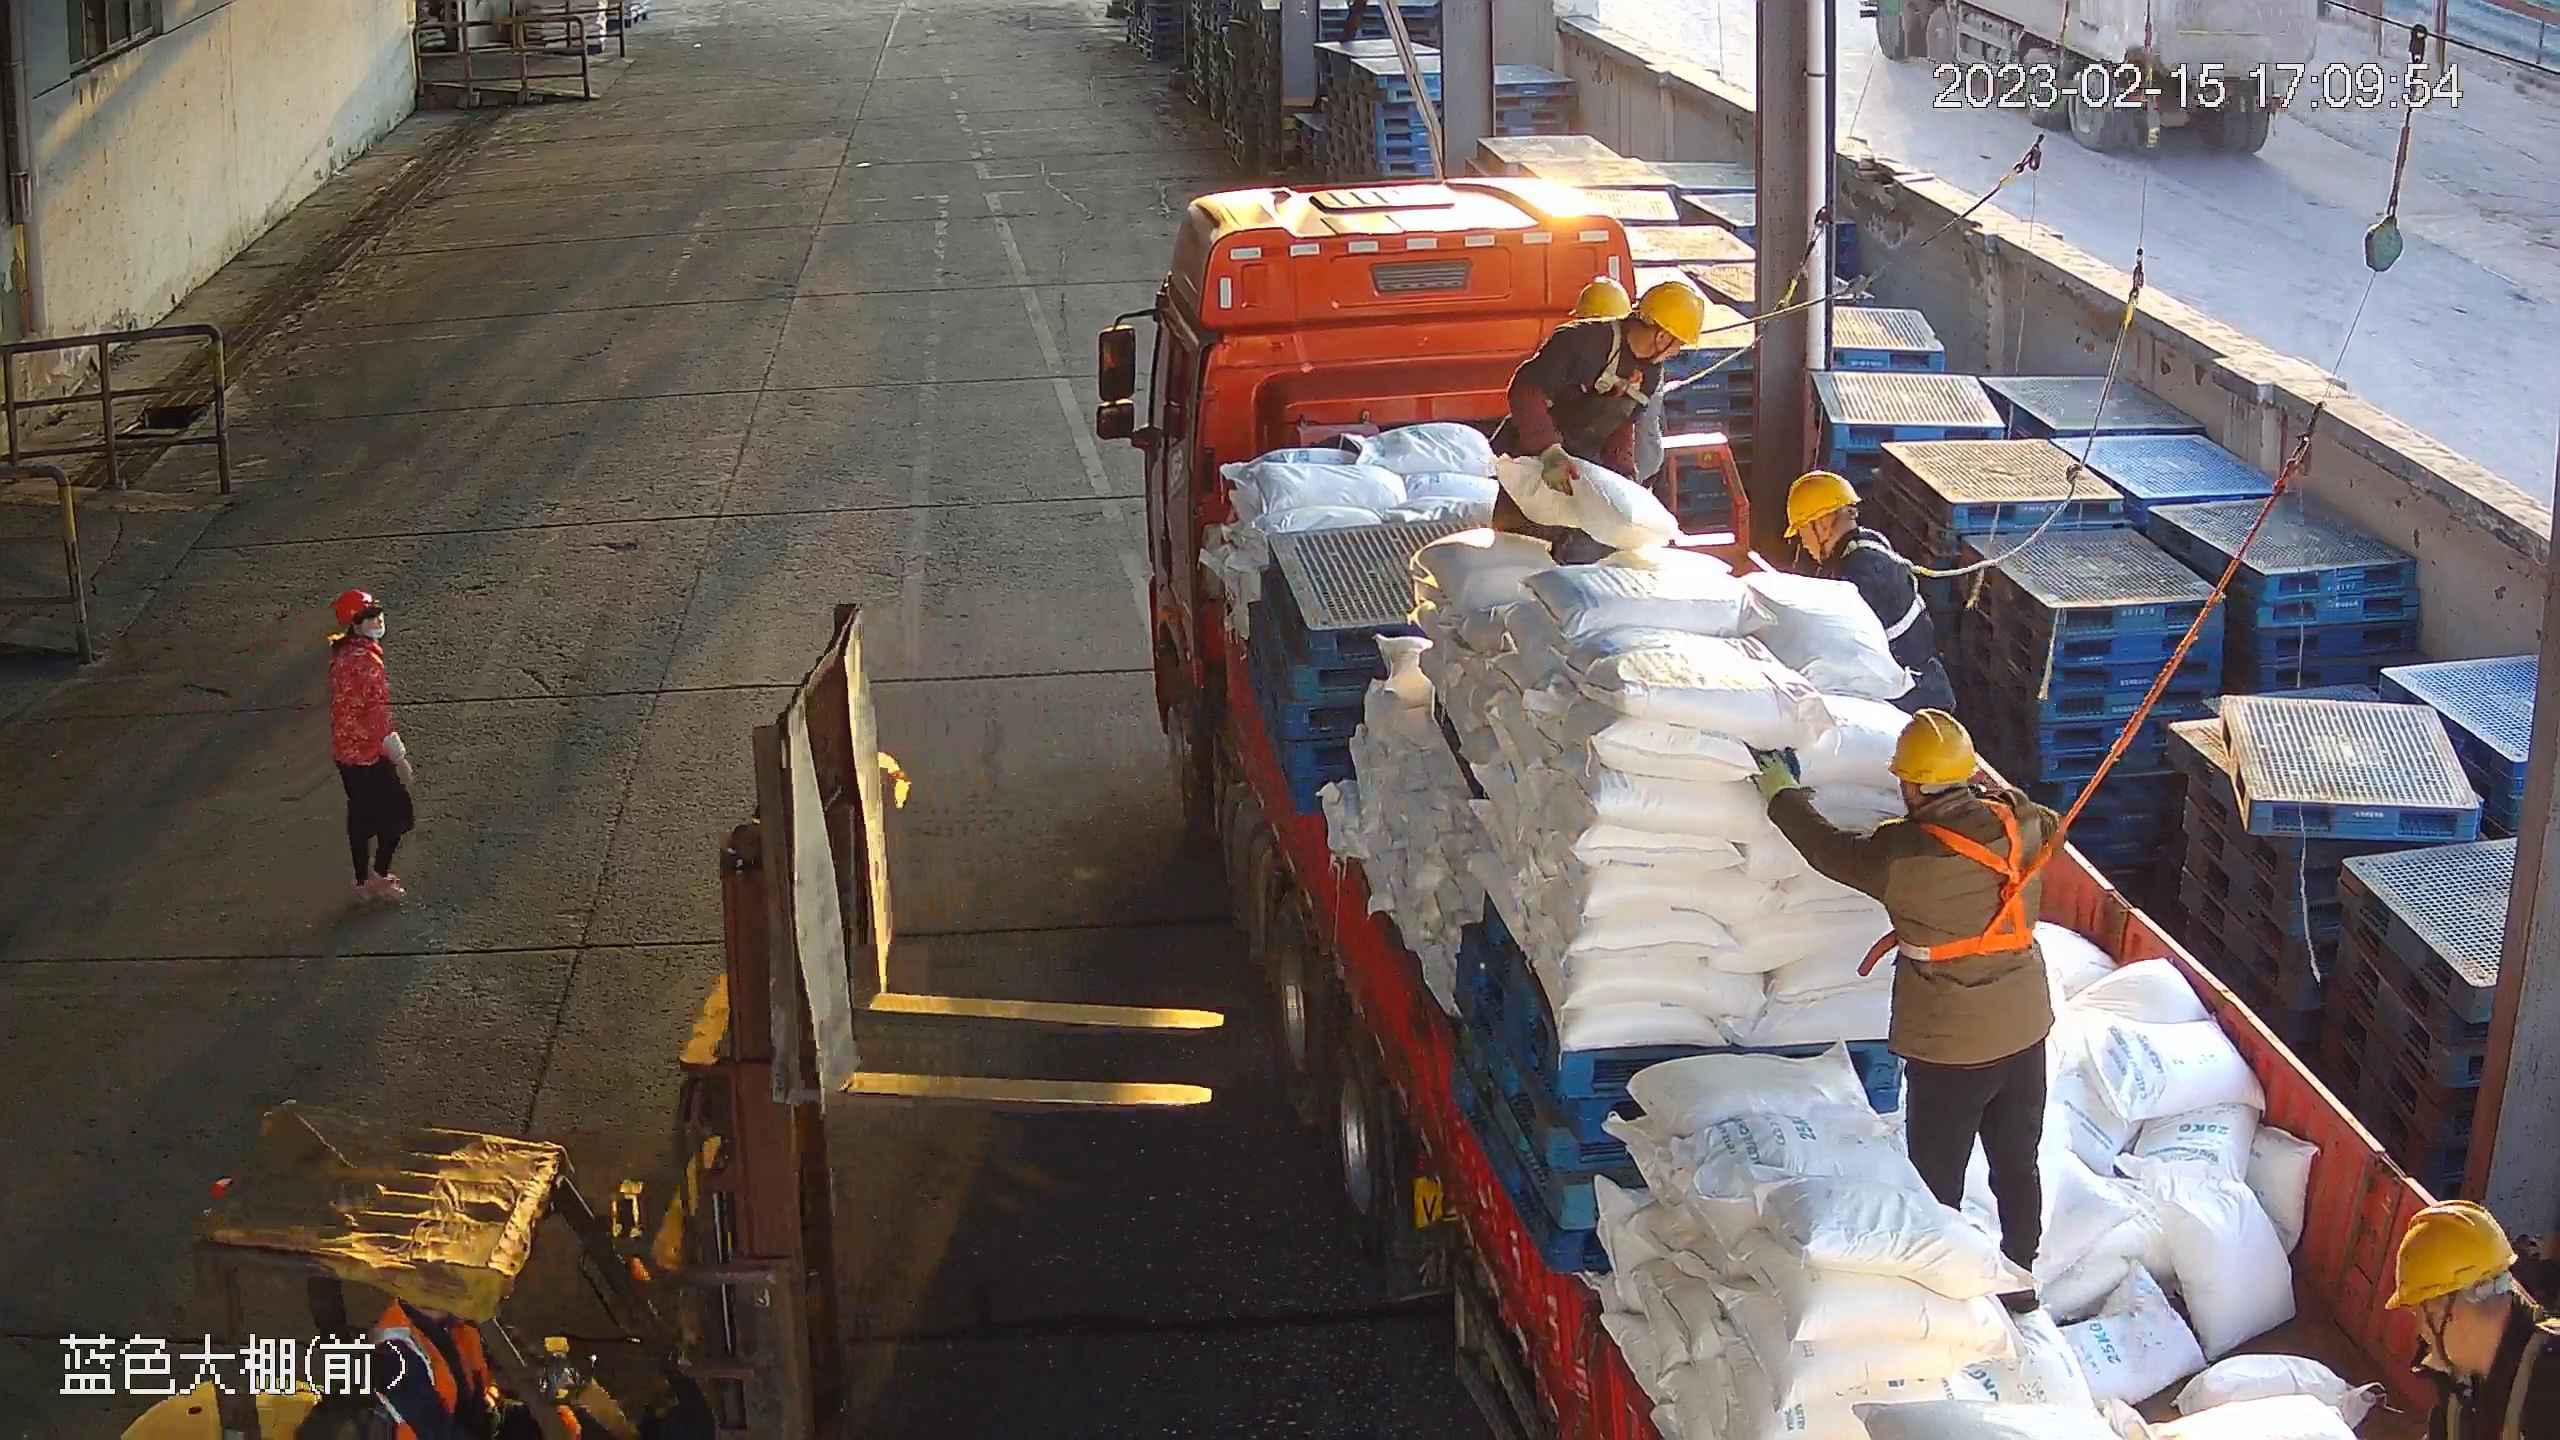belt: (1874, 795, 2067, 959), (1836, 527, 1946, 642), (1592, 320, 1682, 402)
head: (1864, 706, 2047, 868), (1778, 469, 1917, 590), (1531, 281, 1704, 376), (320, 586, 390, 676)
helmet: (2380, 1198, 2519, 1309), (1887, 705, 1980, 787), (1782, 471, 1862, 539), (1636, 279, 1704, 347), (1567, 275, 1633, 319), (328, 589, 378, 626)
people: (1747, 700, 2055, 1328), (1487, 283, 1702, 565), (323, 586, 416, 904)
truck: (1137, 173, 2560, 1440)
